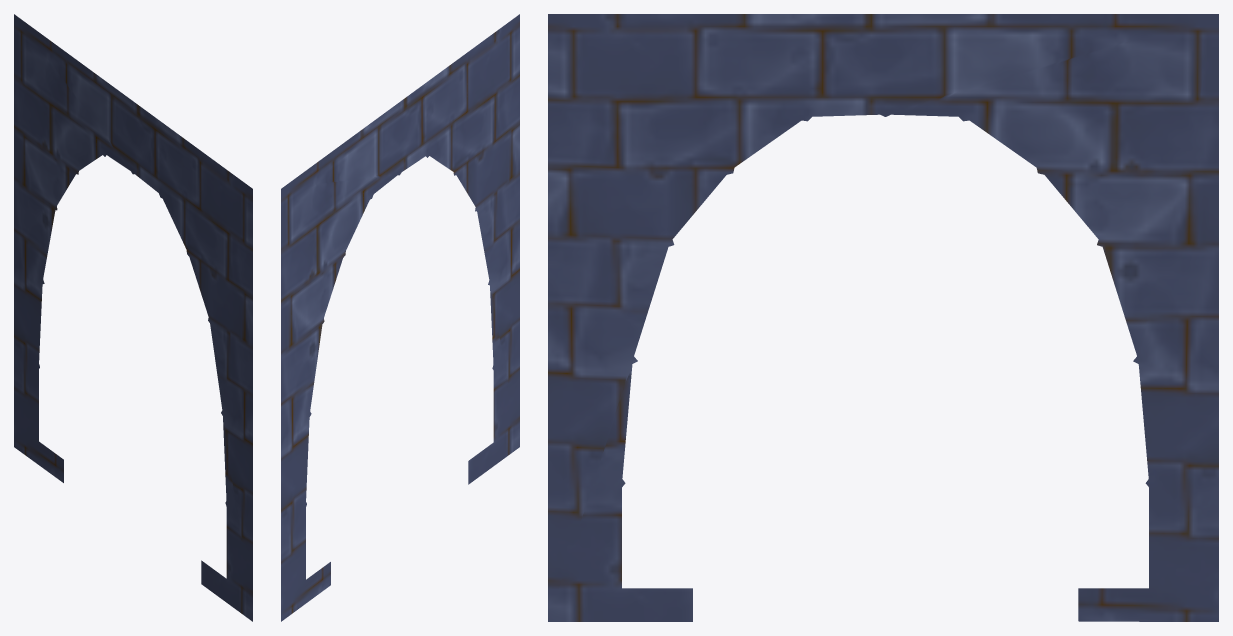
File: DoorWallLP.fbx
The picture shows the model from 3 angles, left to right: view 1: azimuth 30°, elevation 25°; view 2: azimuth 150°, elevation 25°; view 3: azimuth 270°, elevation 25°; orthographic projection. The views are drawn at different scales.
Visible parts, largest first — view 1: baselp; view 2: baselp; view 3: baselp.
Part boxes in pixels (x1=…): baselp: x1=14, y1=14, x2=252, y2=621; baselp: x1=281, y1=14, x2=519, y2=621; baselp: x1=548, y1=14, x2=1218, y2=621.
Size of the model in its own units: 4.13e-05 by 200 by 200.
